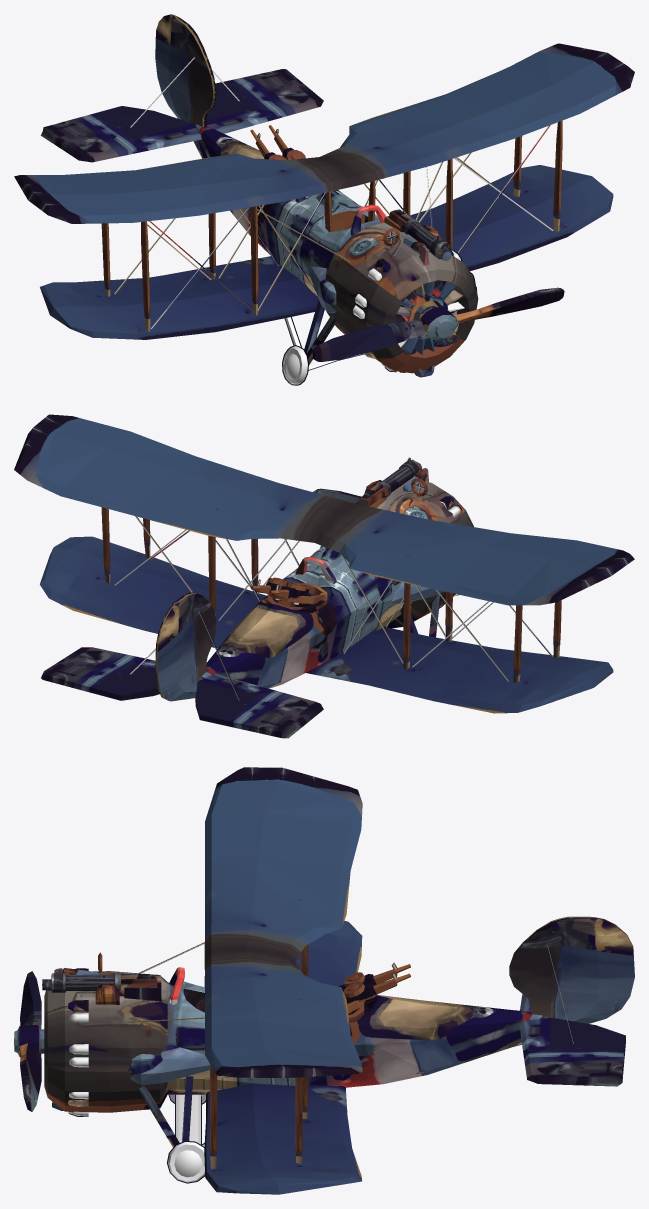
The picture shows the model from 3 angles, top to bottom: view 1: azimuth 30°, elevation 25°; view 2: azimuth 150°, elevation 25°; view 3: azimuth 270°, elevation 25°; orthographic projection. The views are drawn at different scales.
Visible parts, largest first — view 1: polySurface246, polySurface247; view 2: polySurface246; view 3: polySurface246, polySurface247.
Part boxes in pixels (bbox=[...]): polySurface246: bbox=[14, 14, 634, 385]; polySurface247: bbox=[312, 287, 564, 361]; polySurface246: bbox=[14, 414, 634, 738]; polySurface246: bbox=[42, 767, 634, 1194]; polySurface247: bbox=[14, 971, 44, 1111].
Bounding box in the file's own units: 0.3251 × 0.1125 × 0.2776.
2 materials, 1 textured.
